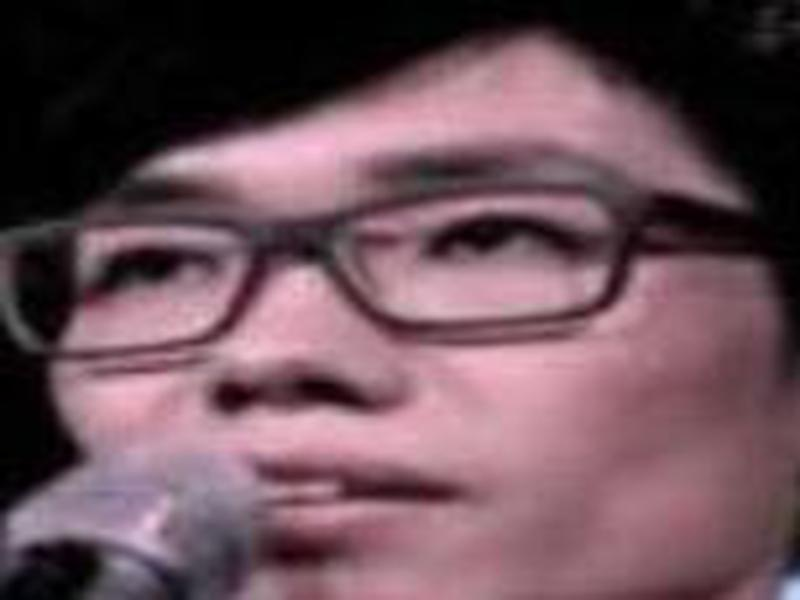without_mask: (44, 44, 772, 593)
